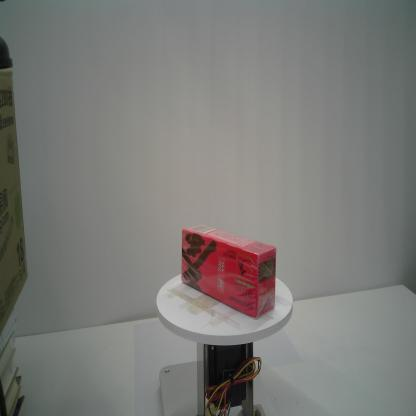Instant Drink: (181, 223, 277, 322)
